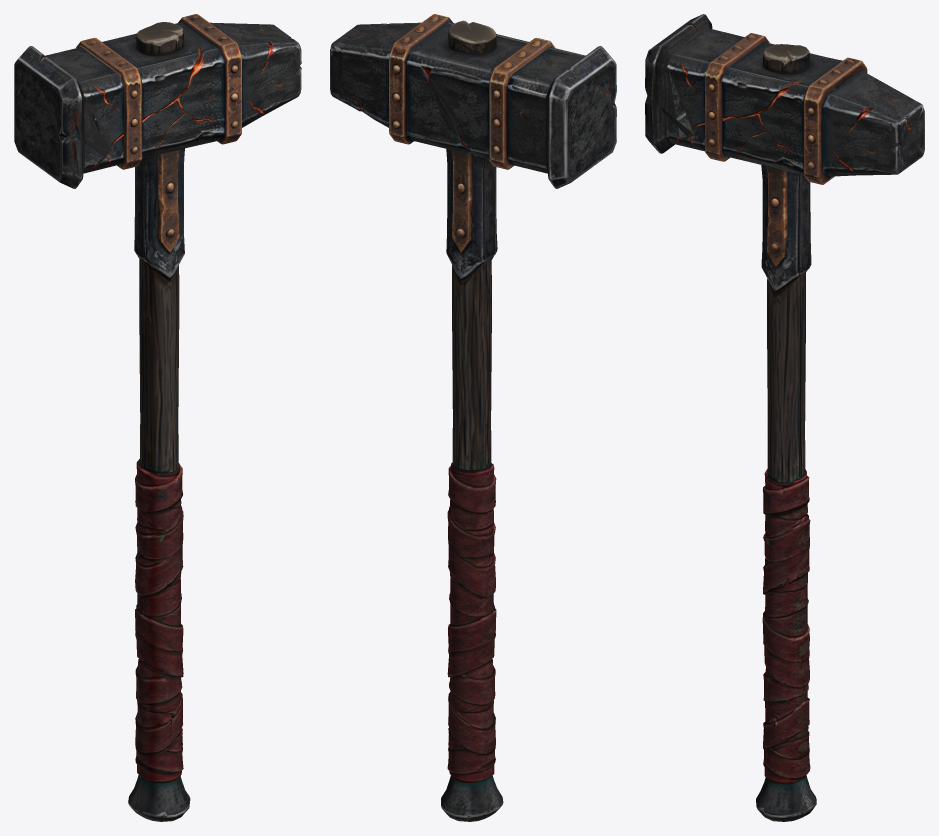
Rendered from martello_da_forgia.glb.
The picture shows the model from 3 angles, left to right: view 1: azimuth 30°, elevation 25°; view 2: azimuth 150°, elevation 25°; view 3: azimuth 330°, elevation 25°; orthographic projection. The views are drawn at different scales.
Parts seen in each view (by area): view 1: martello_da_forgia; view 2: martello_da_forgia; view 3: martello_da_forgia.
Boxes of the visible parts, bbox=[...] form: martello_da_forgia: bbox=[14, 14, 301, 821]; martello_da_forgia: bbox=[330, 14, 616, 821]; martello_da_forgia: bbox=[645, 14, 924, 821].
Bounding box in the file's own units: 0.2329 × 0.7 × 0.0927.
1 material, 1 textured.
